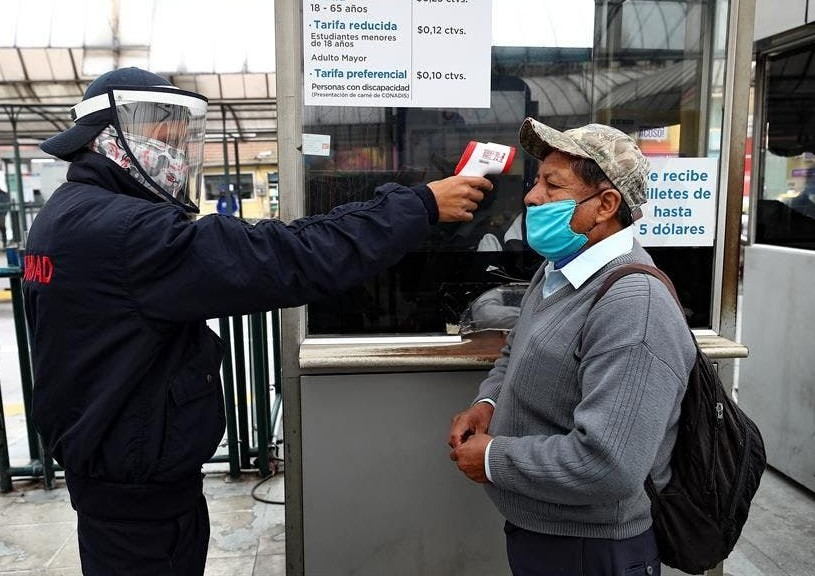with_mask: (515, 132, 648, 266), (96, 72, 212, 222)
